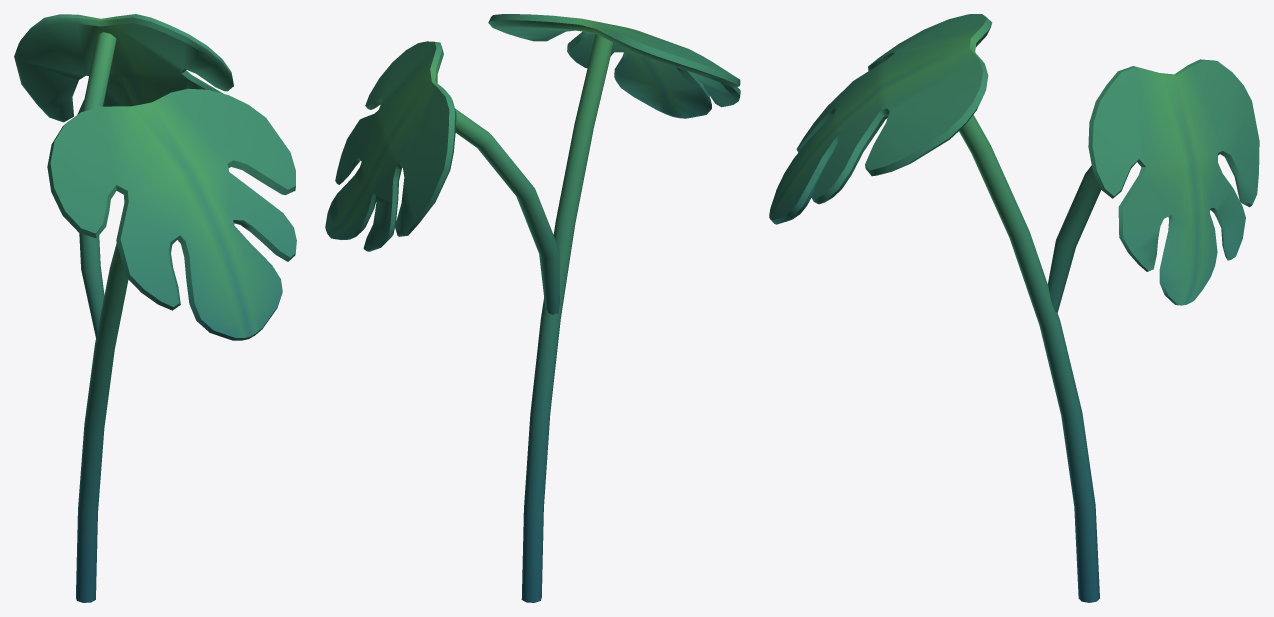
File: house_plants_plants_large_monstera.glb
The picture shows the model from 3 angles, left to right: view 1: azimuth 30°, elevation 25°; view 2: azimuth 150°, elevation 25°; view 3: azimuth 270°, elevation 25°; orthographic projection. The views are drawn at different scales.
Parts seen in each view (by area): view 1: monstera_leaf_large_D; view 2: monstera_leaf_large_D; view 3: monstera_leaf_large_D.
Part boxes in pixels (box(x1,y1,x2,y2)): monstera_leaf_large_D: box(14, 14, 296, 602); monstera_leaf_large_D: box(325, 14, 740, 602); monstera_leaf_large_D: box(769, 14, 1259, 602).
Bounding box in the file's own units: 1.58 × 2.92 × 2.28.
Materials: 1 (1 with a texture image).
